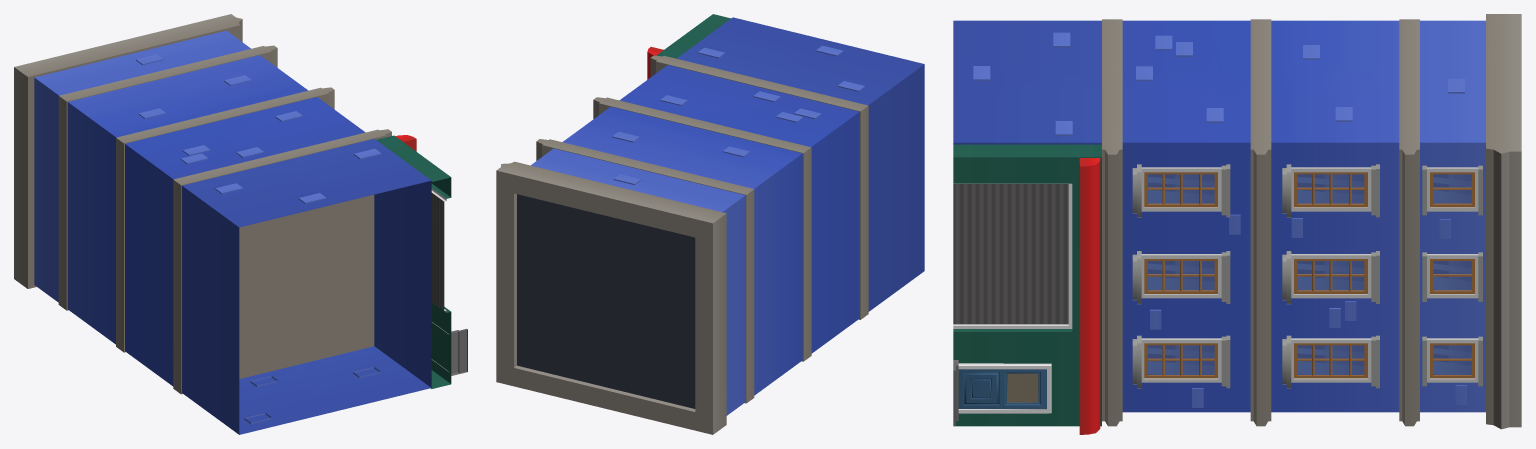
File: Building_19_1_D.fbx
3 renders of one model, left to right at view 1: azimuth 30°, elevation 25°; view 2: azimuth 150°, elevation 25°; view 3: azimuth 270°, elevation 25°, orthographic. The views are drawn at different scales.
Parts seen in each view (by area): view 1: Building_19_1_D; view 2: Building_19_1_D; view 3: Building_19_1_D.
Boxes of the visible parts, box(x1,y1,x2,y2) form: Building_19_1_D: box(14, 14, 467, 434); Building_19_1_D: box(496, 14, 924, 434); Building_19_1_D: box(953, 14, 1521, 434).
Size of the model in its own units: 774 by 667 by 1247.
